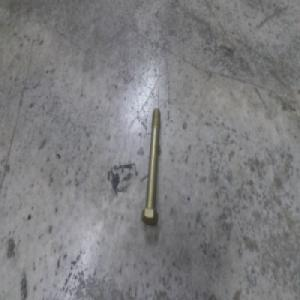Bolt: (139, 107, 158, 227)
